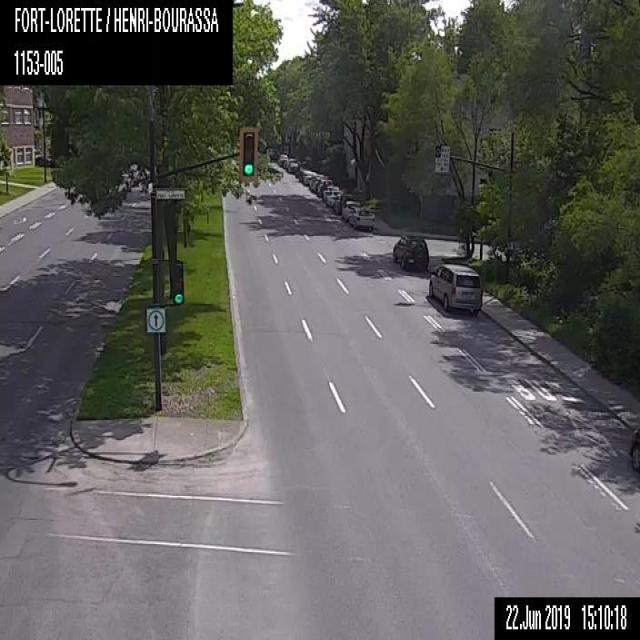vehicle: (425, 263, 481, 315), (392, 233, 430, 270), (349, 204, 377, 229), (628, 425, 639, 475), (342, 198, 361, 220), (333, 193, 353, 212), (326, 190, 343, 207), (316, 178, 332, 196), (311, 175, 326, 191), (322, 186, 338, 200), (308, 174, 321, 189), (297, 168, 309, 182), (302, 171, 314, 184), (287, 160, 298, 172), (277, 152, 287, 164), (282, 157, 294, 167)
